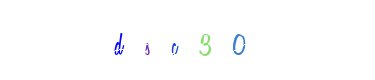0: (165, 0, 245, 80)
3: (161, 0, 241, 80)
C: (147, 0, 227, 80)
D: (90, 0, 170, 80)
S: (134, 0, 214, 80)
